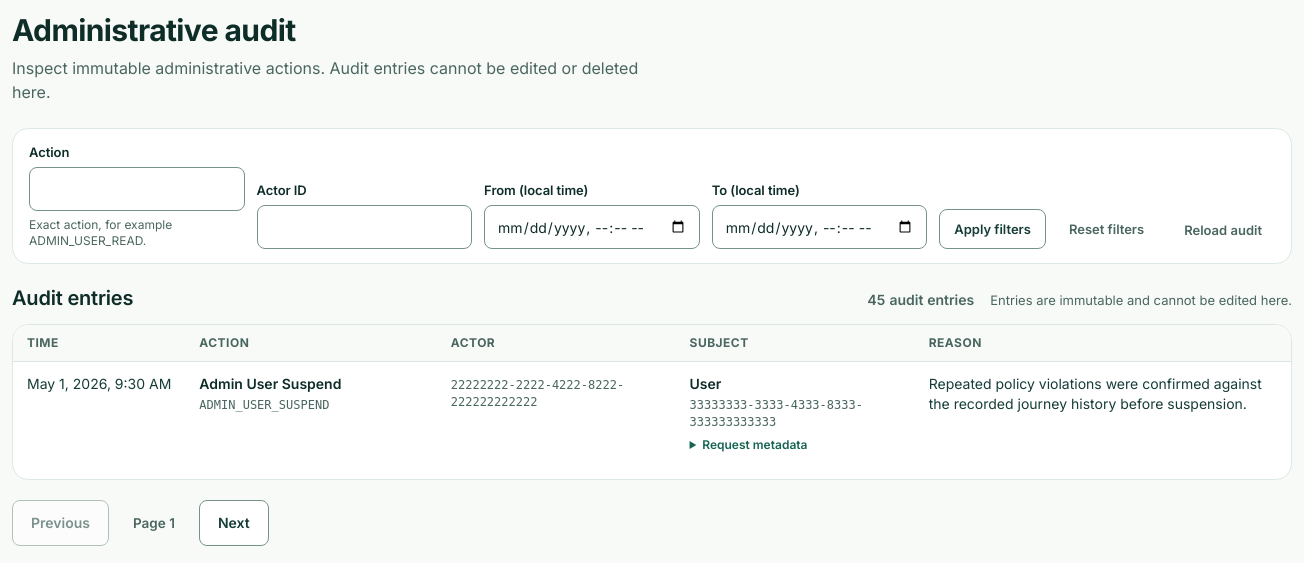
rejects a reversed date range without issuing another request
Check: the text "ADMIN_USER_SUSPEND" is shown, box 199,398 -> 329,412
In the field labelled "From (local time)": point(592, 227) 484,205 -> 700,249, type "2026-05-02T09:00"
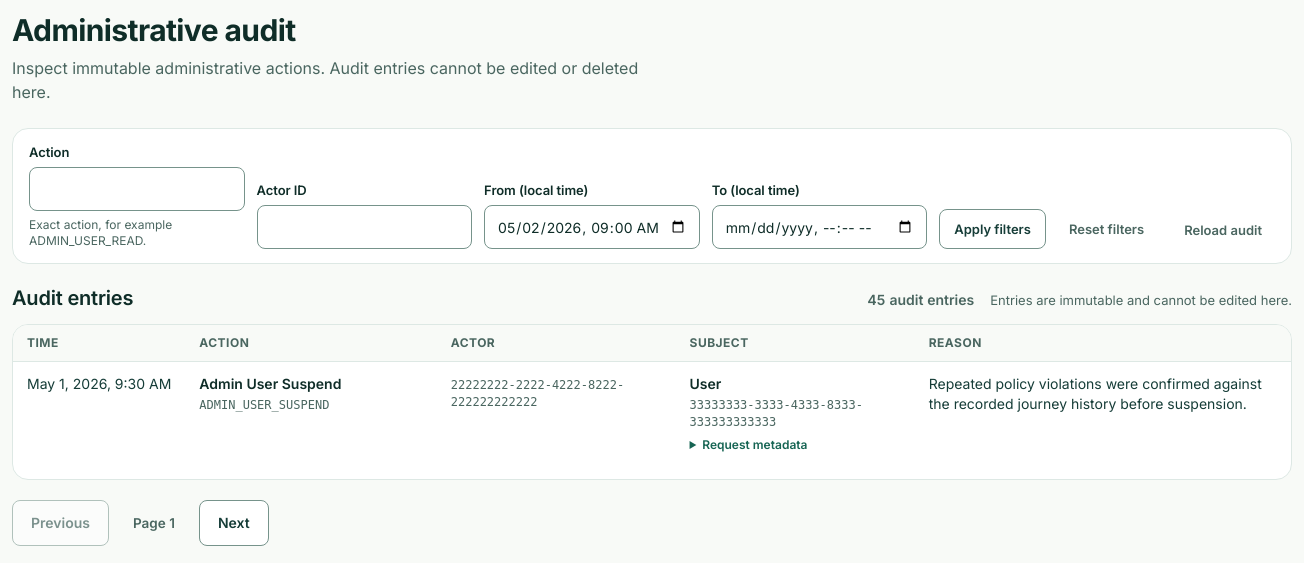
In the field labelled "To (local time)": point(819, 227) 712,205 -> 927,249, type "2026-05-01T09:00"
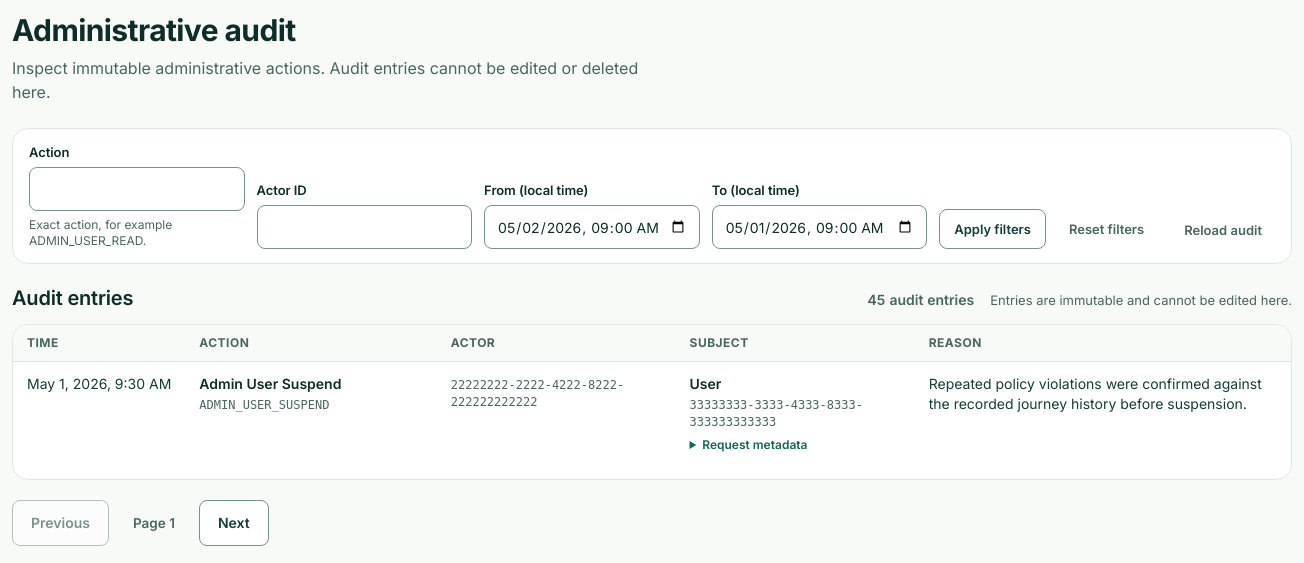
Click the button "Apply filters": point(993, 229) 939,209 -> 1046,249
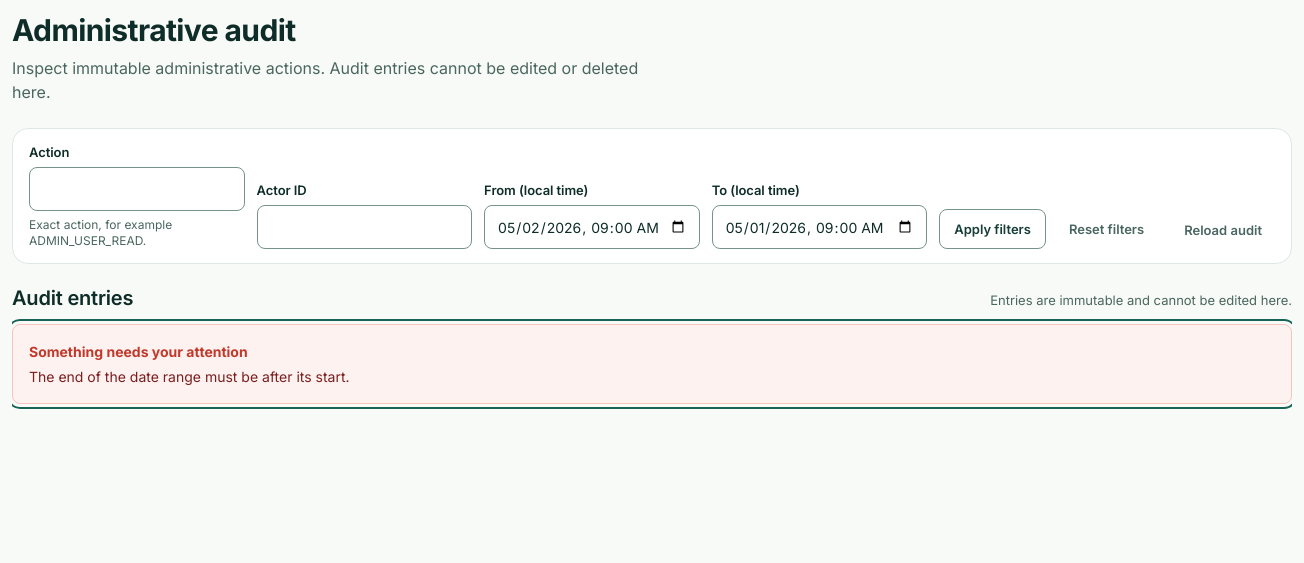
Check: the message shows "after its start", box 29,368 -> 350,385
